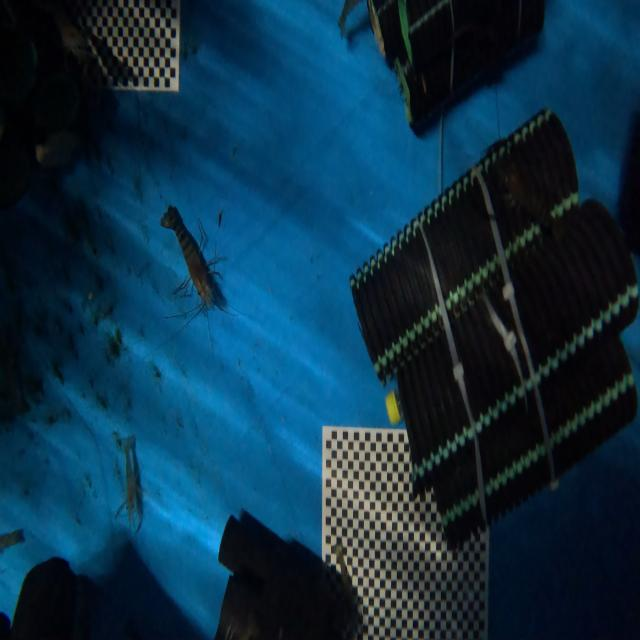prawn: (161, 206, 224, 308), (114, 436, 142, 535)
